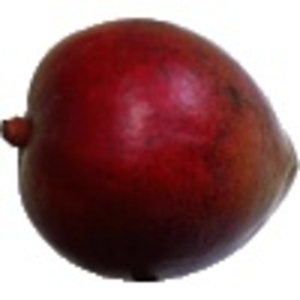manga: (1, 17, 300, 282)
